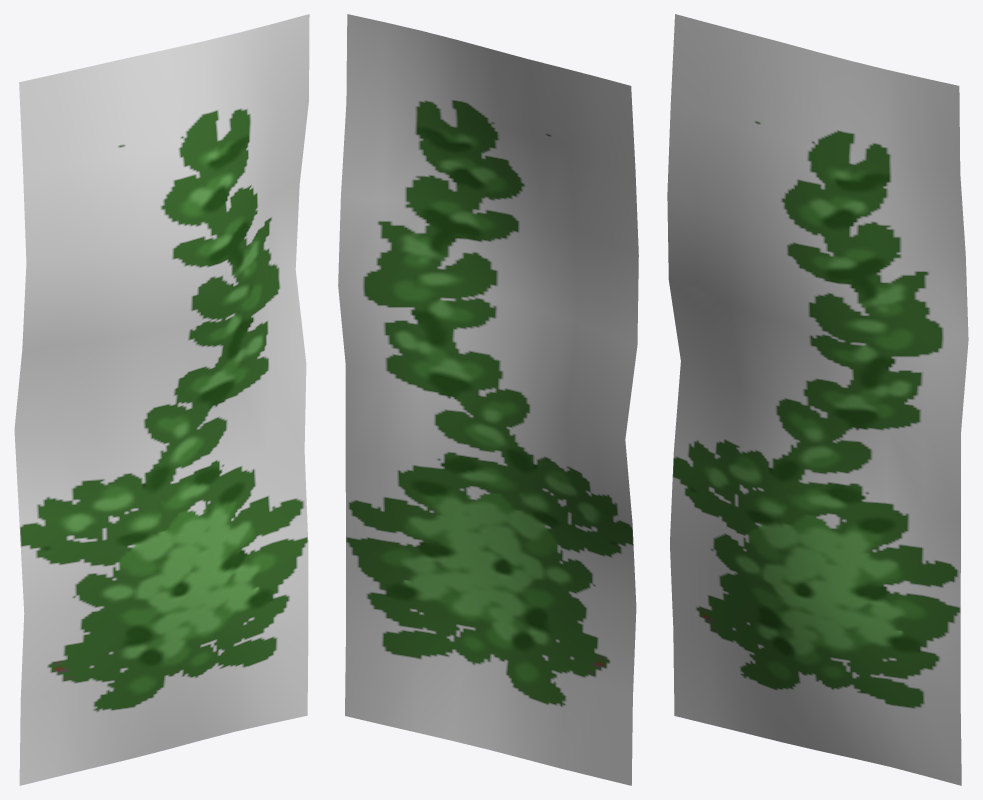
File: E_Mini2.fbx
3 views of the same model, side by side, from view 1: azimuth 30°, elevation 25°; view 2: azimuth 150°, elevation 25°; view 3: azimuth 330°, elevation 25° (orthographic).
Visible parts, largest first — view 1: E_Mini2; view 2: E_Mini2; view 3: E_Mini2.
Part boxes in pixels (<box>): E_Mini2: <box>14,14,309,785</box>; E_Mini2: <box>338,14,638,785</box>; E_Mini2: <box>667,14,968,785</box>.
Size of the model in its own units: 302 by 700 by 54.58.
1 material, 1 textured.
